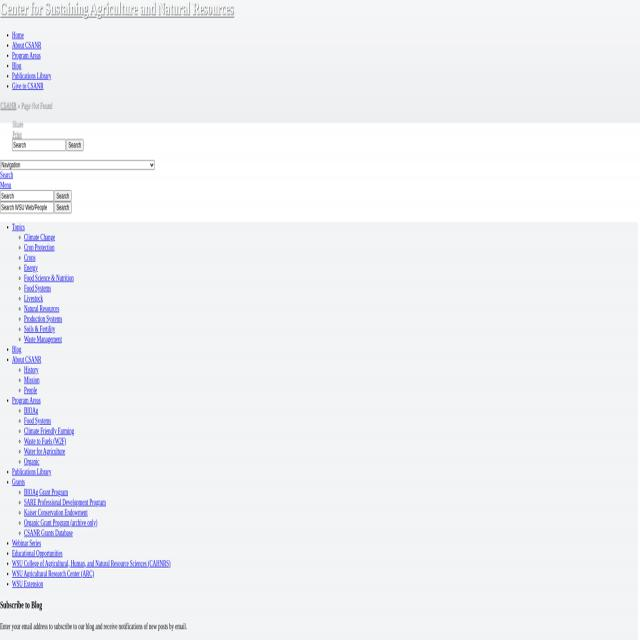button: (0, 0, 234, 18), (66, 139, 84, 151), (54, 190, 72, 202), (54, 202, 72, 213)
field: (0, 160, 155, 170), (12, 139, 66, 151), (0, 190, 54, 202), (0, 202, 54, 213)
